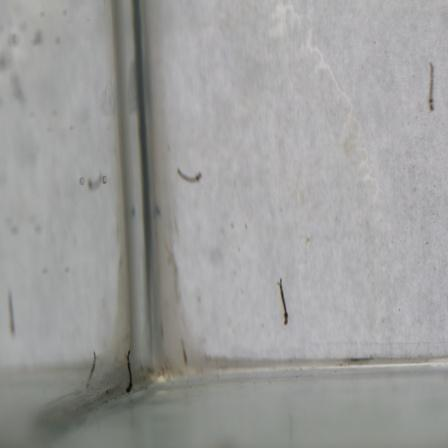Jentik-Nyamuk: (277, 277, 293, 326), (123, 347, 136, 395)
